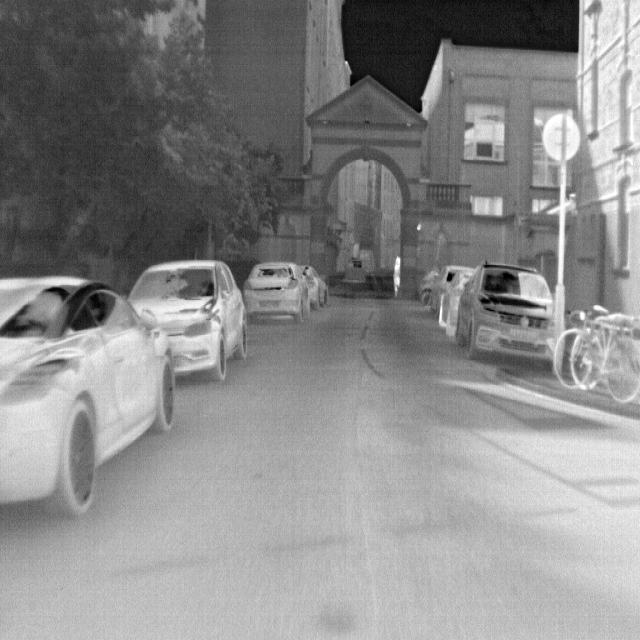Pedestrian: (394, 256, 402, 297)
Vehicle: (0, 272, 177, 526), (125, 254, 249, 383), (455, 258, 560, 362), (243, 258, 312, 318)
